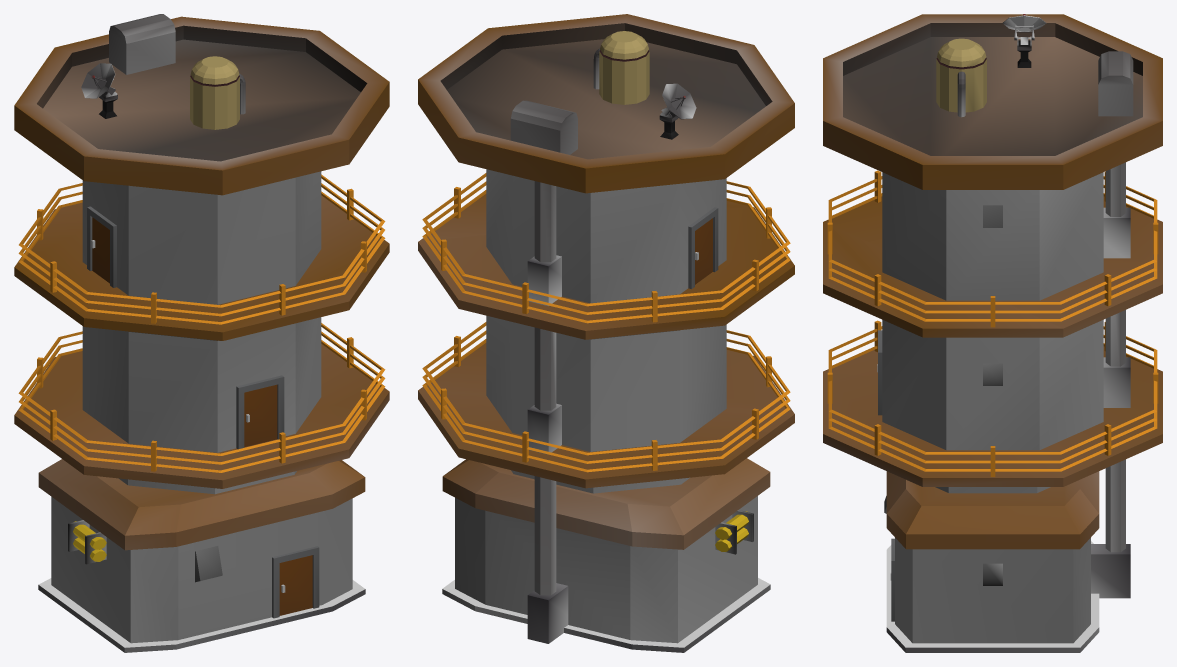
Rendered from edificacao6.fbx.
3 views of the same model, side by side, from view 1: azimuth 30°, elevation 25°; view 2: azimuth 150°, elevation 25°; view 3: azimuth 270°, elevation 25° (orthographic).
Visible parts, largest first — view 1: edificacao6; view 2: edificacao6; view 3: edificacao6.
Part boxes in pixels (x1,y1,x2,y2): edificacao6: [14, 14, 389, 652]; edificacao6: [418, 14, 794, 652]; edificacao6: [823, 14, 1162, 652].
Size of the model in its own units: 1180 by 2000 by 1124.
